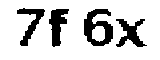6: (82, 6, 116, 50)
7: (12, 6, 46, 51)
f: (48, 7, 74, 54)
x: (117, 15, 149, 55)
